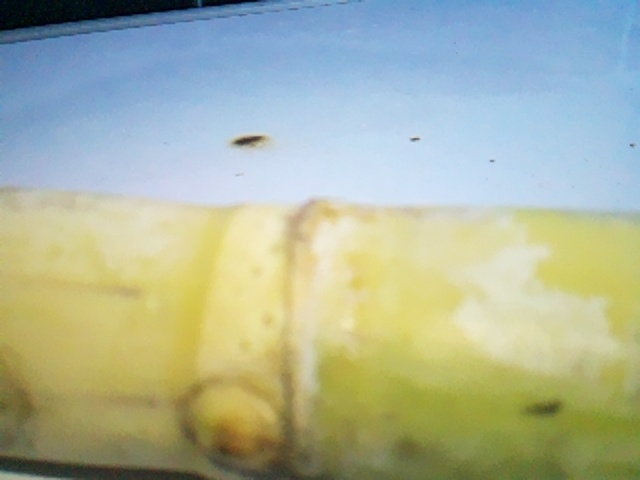Good Sugarcane: (0, 204, 633, 468)
Node: (167, 189, 345, 480)
